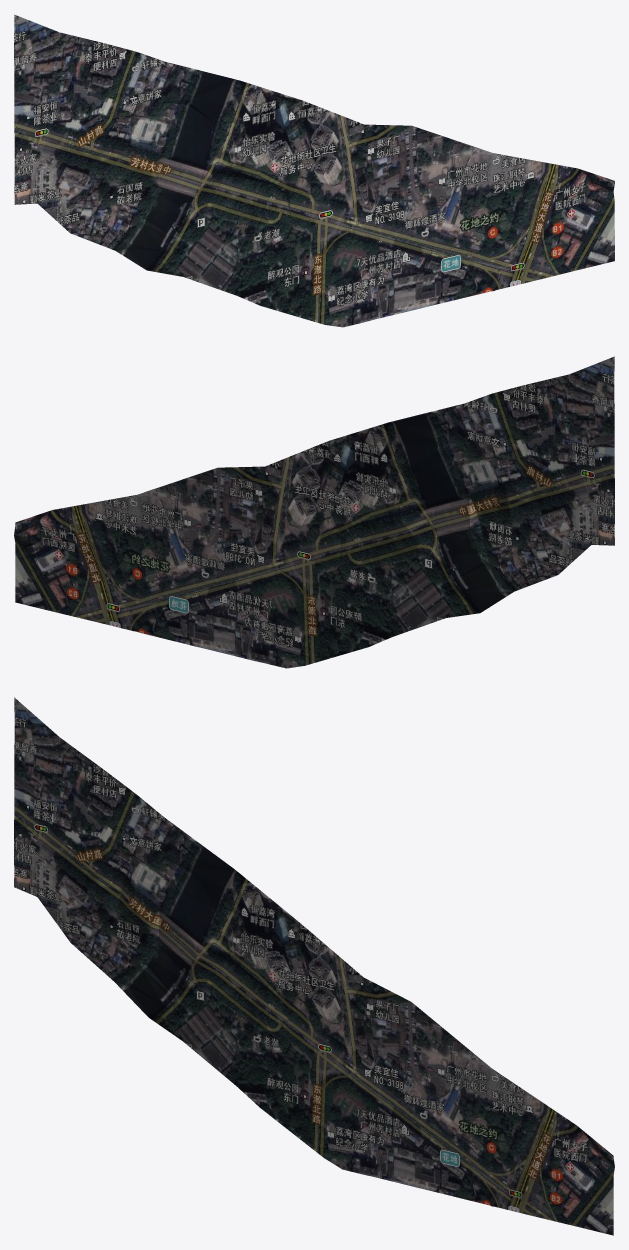
3 renders of one model, top to bottom at view 1: azimuth 30°, elevation 25°; view 2: azimuth 150°, elevation 25°; view 3: azimuth 330°, elevation 25°, orthographic.
Visible parts, largest first — view 1: 0_3_0_0_2; view 2: 0_3_0_0_2; view 3: 0_3_0_0_2.
Boxes of the visible parts, x1,y1,x2,y2 form: 0_3_0_0_2: (14, 14, 614, 327); 0_3_0_0_2: (14, 356, 614, 668); 0_3_0_0_2: (14, 697, 614, 1235).
Bounding box in the file's own units: 972 × 608 × 13.4.
1 material, 1 textured.
